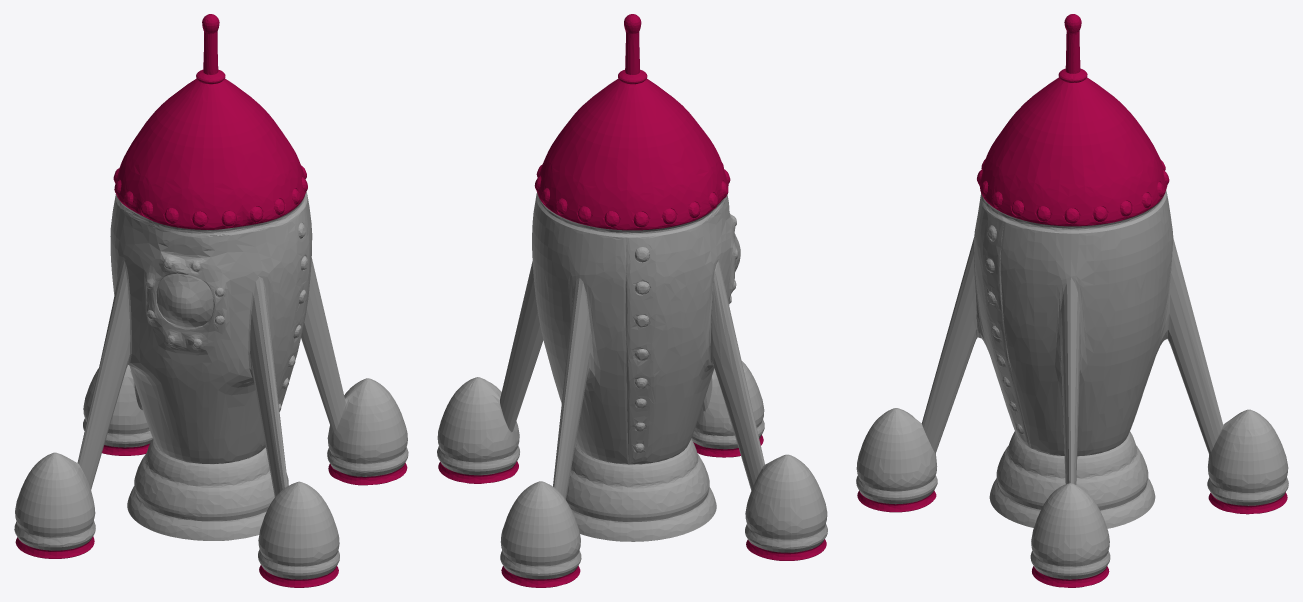
File: rocket.glb
3 renders of one model, left to right at view 1: azimuth 30°, elevation 25°; view 2: azimuth 150°, elevation 25°; view 3: azimuth 270°, elevation 25°, orthographic.
Bounding box in the file's own units: 0.0958 × 0.118 × 0.0958.
